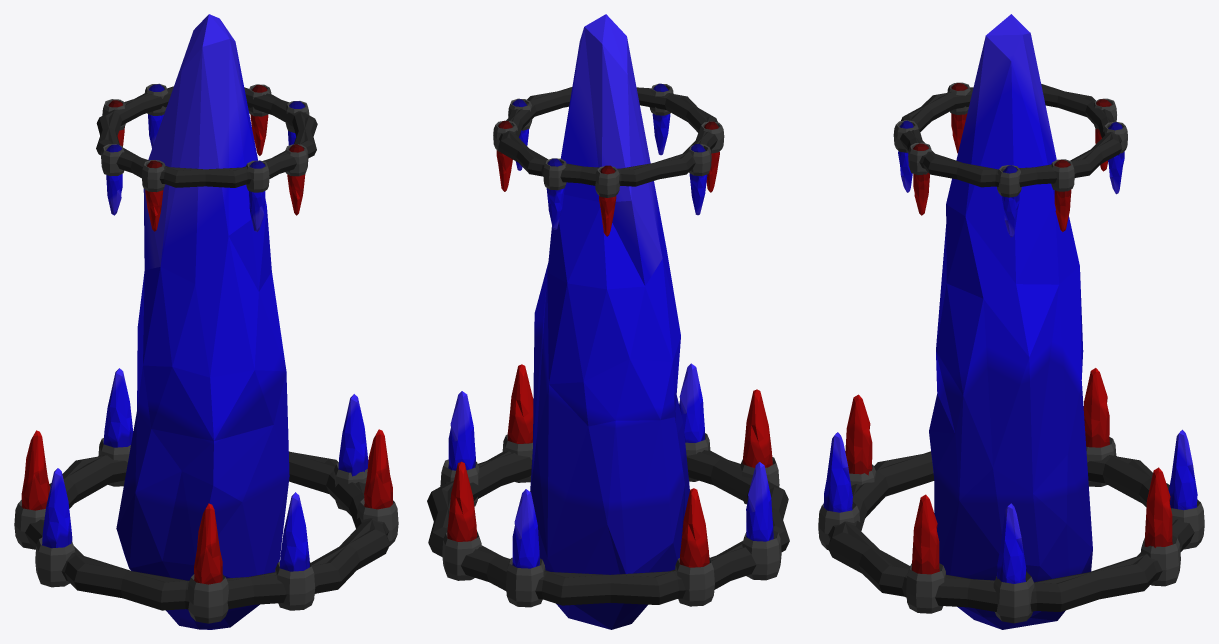
The model's file is Cristal.fbx.
3 views of the same model, side by side, from view 1: azimuth 30°, elevation 25°; view 2: azimuth 150°, elevation 25°; view 3: azimuth 270°, elevation 25° (orthographic).
Parts seen in each view (by area): view 1: Cristal_Blue_Core, Cristal_Blue_Low, Cristal_Red_Low, Cristal_Blue_Up, Cristal_Red_Up; view 2: Cristal_Blue_Core, Cristal_Blue_Low, Cristal_Red_Low, Cristal_Blue_Up, Cristal_Red_Up; view 3: Cristal_Blue_Core, Cristal_Red_Low, Cristal_Blue_Low, Cristal_Red_Up, Cristal_Blue_Up.
Part boxes in pixels (x1,y1,x2,y2): Cristal_Blue_Core: (116, 14, 289, 629); Cristal_Blue_Low: (35, 368, 389, 610); Cristal_Red_Low: (14, 429, 398, 623); Cristal_Blue_Up: (96, 83, 316, 231); Cristal_Red_Up: (96, 84, 317, 231); Cristal_Blue_Core: (530, 14, 689, 629); Cristal_Blue_Low: (428, 363, 788, 607); Cristal_Red_Low: (427, 364, 789, 606); Cristal_Blue_Up: (498, 83, 717, 229); Cristal_Red_Up: (493, 88, 724, 236); Cristal_Blue_Core: (929, 14, 1092, 629); Cristal_Red_Low: (828, 368, 1182, 613); Cristal_Blue_Low: (818, 429, 1204, 623); Cristal_Red_Up: (901, 82, 1122, 231); Cristal_Blue_Up: (893, 87, 1127, 237).
Bounding box in the file's own units: 34.68 × 59.97 × 34.23.
